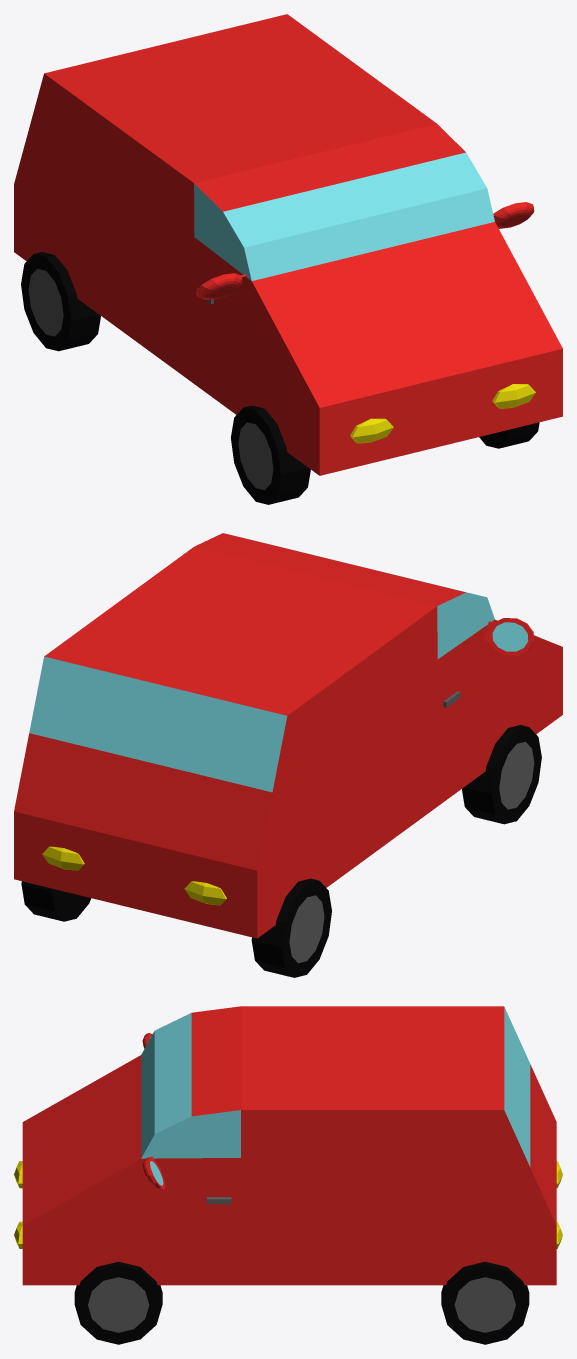
File: car1.fbx
3 renders of one model, top to bottom at view 1: azimuth 30°, elevation 25°; view 2: azimuth 150°, elevation 25°; view 3: azimuth 270°, elevation 25°, orthographic. The views are drawn at different scales.
Parts seen in each view (by area): view 1: Car, RBwheel, RFwheel, Mirror2, LFwheel, FLheadlight, FRheadligt, Mirror; view 2: Car, RBwheel, RFwheel, LBwheel, Mirror2, LBheadlight.001, LBheadlight; view 3: Car, LFwheel, LBwheel, Mirror.
Boxes of the visible parts, x1,y1,x2,y2 form: Car: [14, 14, 562, 475]; RBwheel: [21, 252, 100, 351]; RFwheel: [231, 405, 310, 504]; Mirror2: [196, 273, 246, 299]; LFwheel: [479, 422, 539, 448]; FLheadlight: [350, 418, 393, 443]; FRheadligt: [492, 384, 535, 408]; Mirror: [493, 202, 534, 228]; Car: [14, 533, 562, 938]; RBwheel: [251, 878, 331, 977]; RFwheel: [462, 725, 541, 824]; LBwheel: [21, 881, 91, 921]; Mirror2: [484, 618, 534, 655]; LBheadlight.001: [184, 881, 226, 905]; LBheadlight: [42, 846, 84, 870]; Car: [22, 1006, 556, 1285]; LFwheel: [74, 1261, 162, 1344]; LBwheel: [441, 1261, 529, 1344]; Mirror: [142, 1156, 165, 1189].
Bounding box in the file's own units: 440 × 330 × 709.
